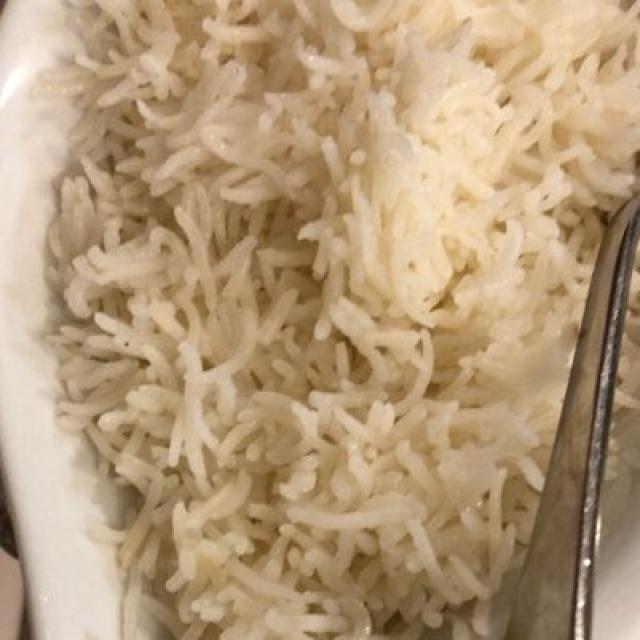rice: (52, 7, 625, 630)
